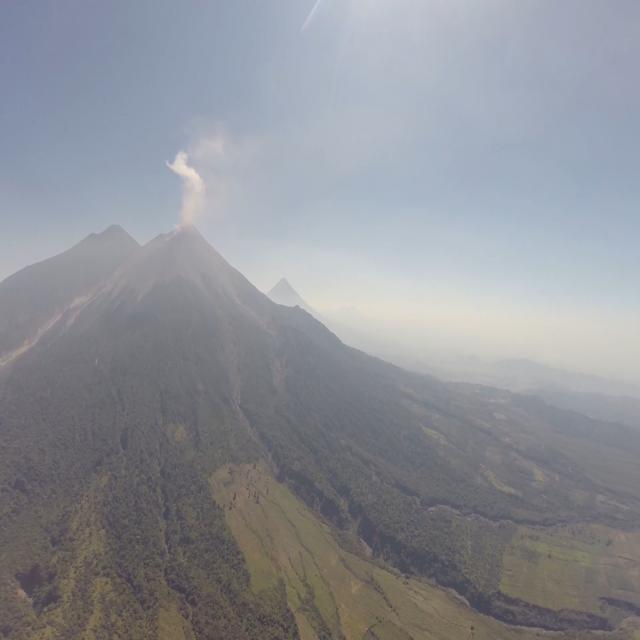Plume: (170, 150, 209, 232)
Summit: (157, 219, 213, 252)
